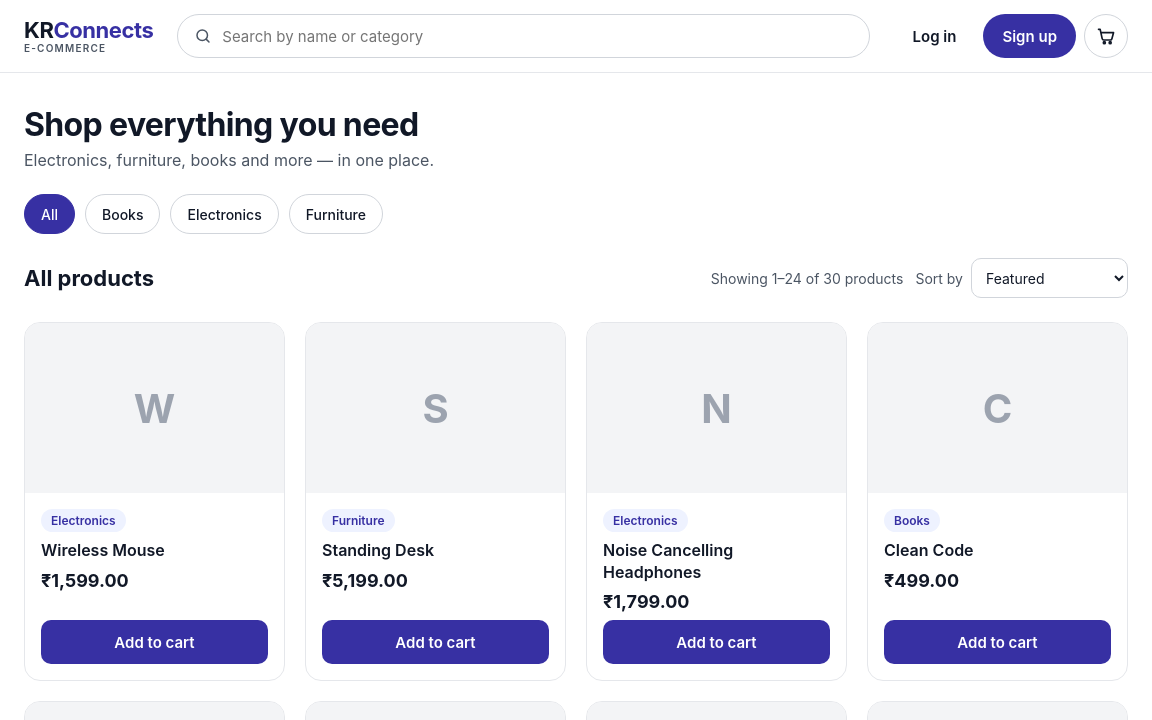
Test: App (storefront home page) › updates the cart count when Add to cart is clicked
Expected: the link "Wireless Mouse" is shown, x1=41 y1=540 x2=165 y2=560
Click the button "Add to cart" below "₹1,599.00".
click(154, 642)  # box x1=41 y1=620 x2=268 y2=664
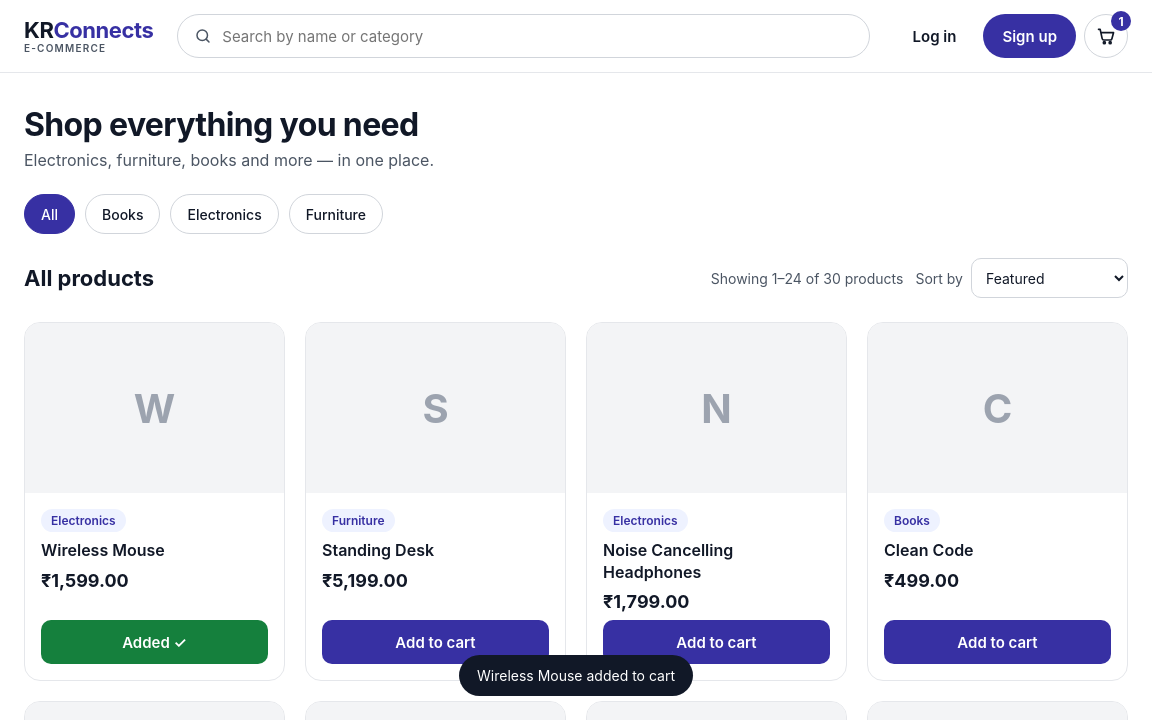
Result: the link named "Cart, 1 items" is shown at x1=1084 y1=14 x2=1128 y2=58
Result: the button "Added ✓" is shown at x1=41 y1=620 x2=268 y2=664
